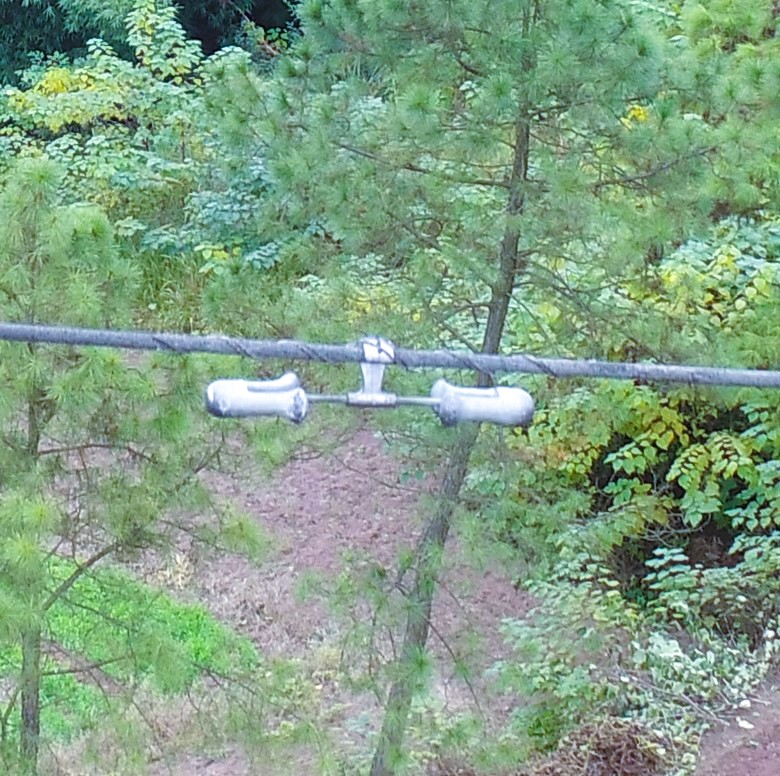Shockproof hammer: (192, 319, 552, 433)
